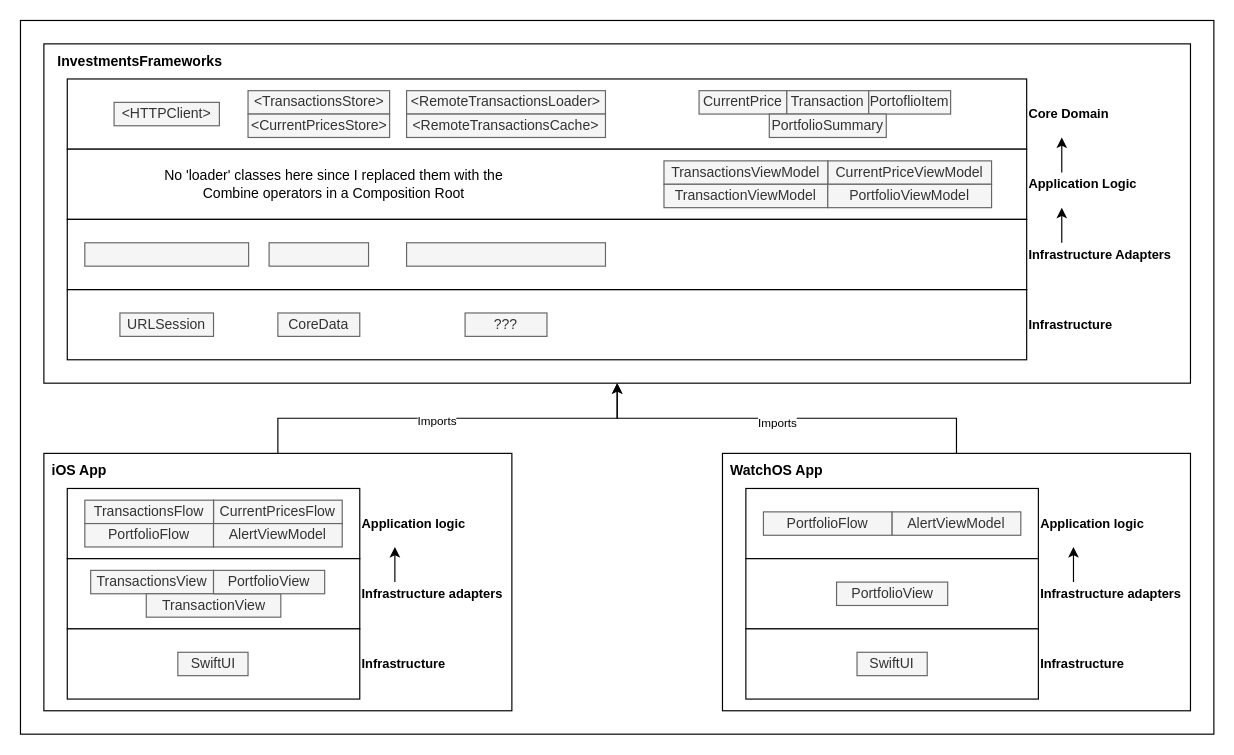
Image size: 1234x755. Some labels were removed from this diagram. The centre of each missing label's shape, as x and y in pixels:
???RemoteTransactionsStore: (x=505, y=254)
CoreDataStore: (x=318, y=254)
URLSessionHTTPClient: (x=166, y=254)
